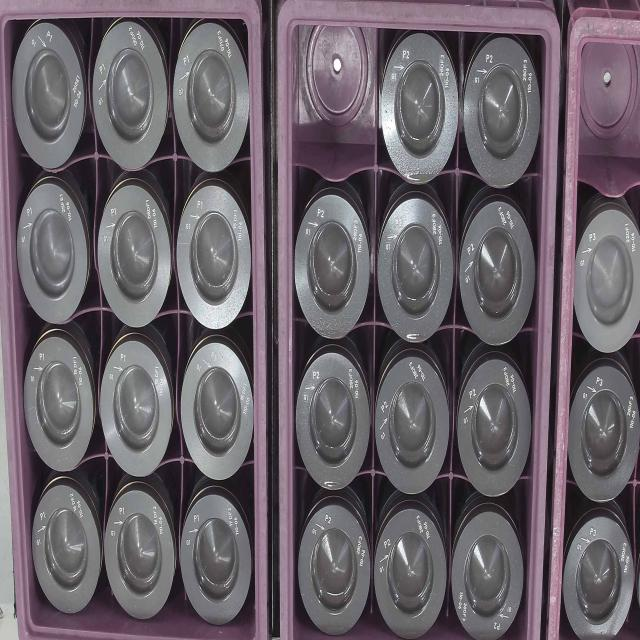P1: (6, 20, 86, 161), (92, 20, 164, 172), (176, 23, 246, 177), (21, 174, 89, 328), (99, 181, 170, 327), (28, 336, 94, 476), (106, 342, 172, 480), (185, 344, 253, 476), (181, 190, 245, 328)
P2: (462, 202, 538, 354), (296, 189, 370, 345), (465, 36, 537, 194), (381, 35, 456, 181), (377, 350, 452, 496), (380, 201, 455, 343), (458, 359, 530, 505), (296, 350, 369, 493), (299, 508, 372, 635), (453, 509, 526, 632), (377, 512, 448, 638)
P3: (574, 203, 640, 349), (565, 366, 637, 496), (566, 509, 636, 628)
